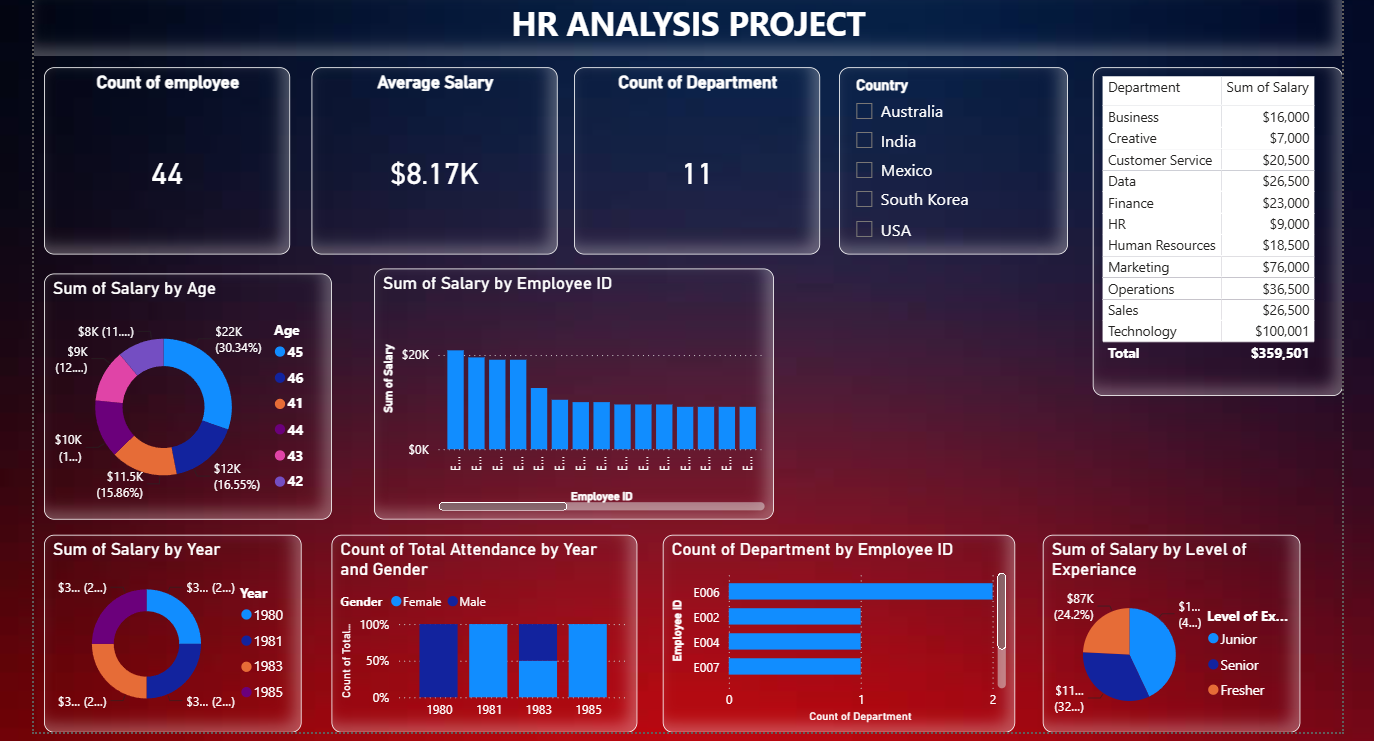

Layout of this report page (visuals, bound fields, positions):
{"tool":"powerbi","page":{"name":"Page 1","canvas":[1280,720],"ordinal":0},"visuals":[{"type":"card","title":"Count of employee ","fields":{"Values":["Count(EMP Attendance.Employee ID)"]},"box":[9.8,69.7,240.9,183.4],"z":0},{"type":"card","title":"Average Salary","fields":{"Values":["Avg(Append1_2020_2022.Salary)"]},"box":[271.5,69.7,240.9,183.4],"z":1000},{"type":"card","title":"Count of Department","fields":{"Values":["Count(Append1_2020_2022.Department)"]},"box":[528.3,69.7,240.9,183.4],"z":2000},{"type":"pieChart","fields":{"Y":["Sum(Append1_2020_2022.Salary)"],"Category":["Append1_2020_2022.Level of Experiance"]},"box":[986.8,527,251.9,193.2],"z":3000},{"type":"donutChart","fields":{"Y":["Sum(Append1_2020_2022.Salary)"],"Category":["Yr 2021.Year"]},"box":[9.8,527,251.9,193.2],"z":4000},{"type":"lineClusteredColumnComboChart","fields":{"Y":["Sum(Append1_2020_2022.Salary)"],"Category":["EMP Attendance.Employee ID"]},"box":[332.6,266.6,391.3,245.8],"z":5000},{"type":"slicer","fields":{"Values":["Append1_2020_2022.Country"]},"box":[787.5,69.7,223.8,183.4],"z":6000},{"type":"tableEx","fields":{"Values":["Append1_2020_2022.Department","Sum(Append1_2020_2022.Salary)"]},"box":[1035.7,69.7,244.6,321.6],"z":7000},{"type":"hundredPercentStackedColumnChart","fields":{"Y":["CountNonNull(EMP Attendance.Total Attendance)"],"Series":["Yr 2021.Gender"],"Category":["Yr 2021.Year"]},"box":[291,527,299.6,193.2],"z":8000},{"type":"clusteredBarChart","fields":{"Y":["CountNonNull(Yr 2021.Department)"],"Category":["EMP Attendance.Employee ID"]},"box":[615.1,527,344.8,193.2],"z":9000},{"type":"textbox","box":[0,0,1280.3,58.7],"z":10000},{"type":"donutChart","fields":{"Category":["Yr 2021.Age"],"Y":["Sum(Yr 2021.Salary)"]},"box":[9.8,271.5,281.3,240.9],"z":10001}]}

Visuals, with their boxes in screenshot pixels (x1, y1, x2, y2):
"Count of employee " card: {"x1": 42, "y1": 81, "x2": 287, "y2": 267}
"Average Salary" card: {"x1": 308, "y1": 81, "x2": 552, "y2": 267}
"Count of Department" card: {"x1": 568, "y1": 81, "x2": 813, "y2": 267}
pieChart - Sum(Append1_2020_2022.Salary) x Append1_2020_2022.Level of Experiance: {"x1": 1033, "y1": 545, "x2": 1289, "y2": 740}
donutChart - Sum(Append1_2020_2022.Salary) x Yr 2021.Year: {"x1": 42, "y1": 545, "x2": 298, "y2": 740}
lineClusteredColumnComboChart - Sum(Append1_2020_2022.Salary) x EMP Attendance.Employee ID: {"x1": 370, "y1": 281, "x2": 767, "y2": 531}
slicer - Append1_2020_2022.Country: {"x1": 831, "y1": 81, "x2": 1058, "y2": 267}
tableEx - Append1_2020_2022.Department x Sum(Append1_2020_2022.Salary): {"x1": 1083, "y1": 81, "x2": 1331, "y2": 408}
hundredPercentStackedColumnChart - CountNonNull(EMP Attendance.Total Attendance) x Yr 2021.Gender: {"x1": 327, "y1": 545, "x2": 631, "y2": 740}
clusteredBarChart - CountNonNull(Yr 2021.Department) x EMP Attendance.Employee ID: {"x1": 656, "y1": 545, "x2": 1006, "y2": 740}
textbox: {"x1": 32, "y1": 11, "x2": 1331, "y2": 70}
donutChart - Yr 2021.Age x Sum(Yr 2021.Salary): {"x1": 42, "y1": 286, "x2": 328, "y2": 531}
